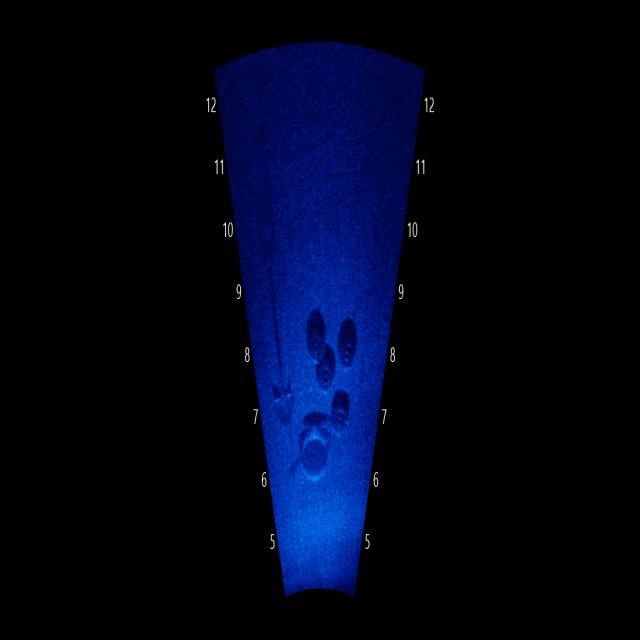circle: (292, 408, 334, 492), (329, 300, 358, 372), (305, 299, 332, 373), (316, 330, 339, 405), (326, 394, 360, 439)
